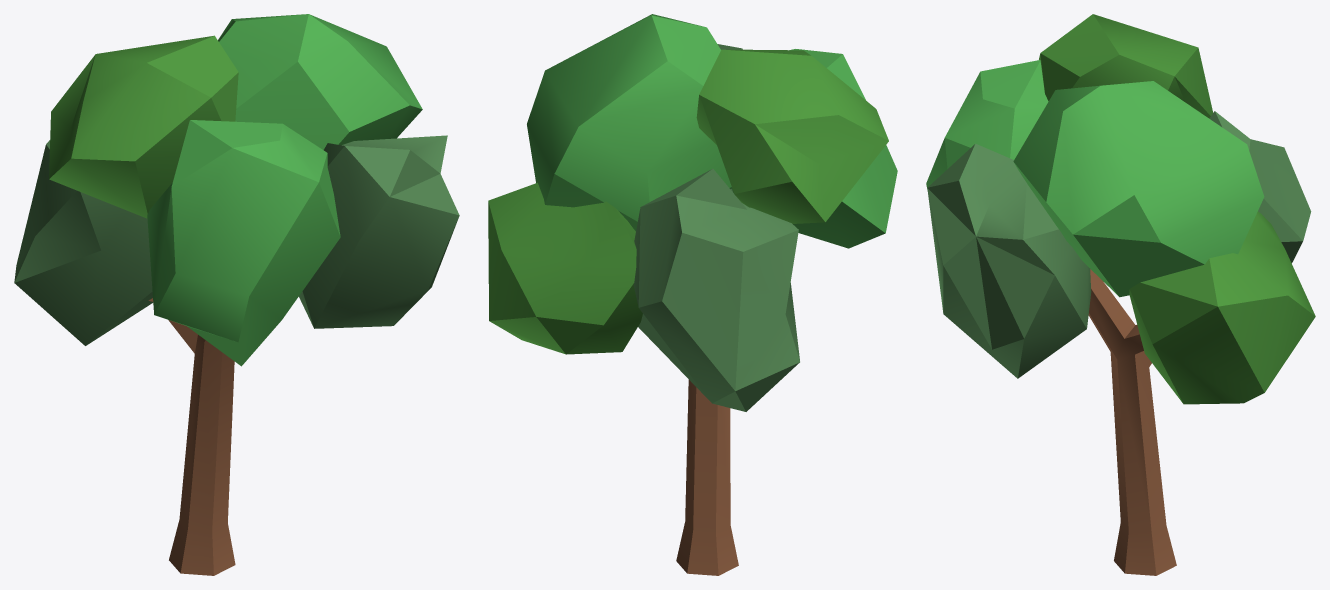
Rendered from tree_1.fbx.
3 views of the same model, side by side, from view 1: azimuth 30°, elevation 25°; view 2: azimuth 150°, elevation 25°; view 3: azimuth 270°, elevation 25° (orthographic). The views are drawn at different scales.
Visible parts, largest first — view 1: Tree Variant 1; view 2: Tree Variant 1; view 3: Tree Variant 1.
Part boxes in pixels (left/top/right/bottom): Tree Variant 1: left=14, top=14, right=459, bottom=575; Tree Variant 1: left=488, top=14, right=897, bottom=575; Tree Variant 1: left=926, top=14, right=1315, bottom=575.
Bounding box in the file's own units: 2.32 × 3.39 × 2.32.
